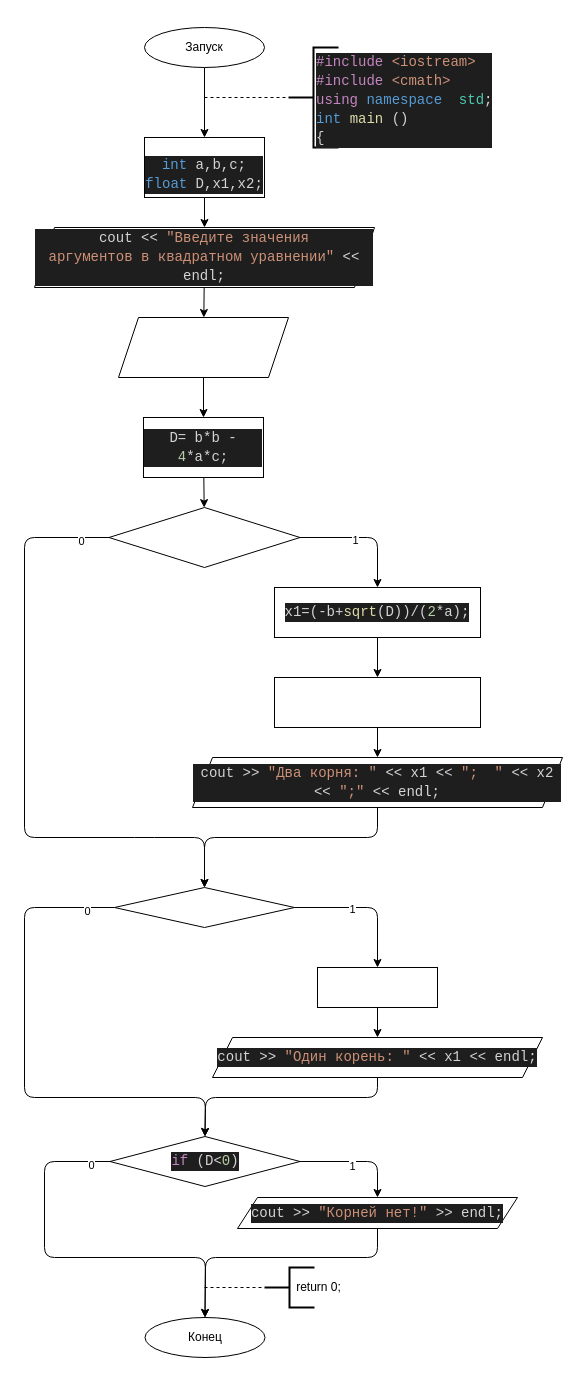
The diagram is 580 pixels wide and 1375 high, and some of its shapes have lost their labels. The centre of each missing label's shape, as x and y in pixels:
"cin << a << b << c;" belongs at (203,347).
"if (D= 0 )" belongs at (204,907).
"if (D> 0 )" belongs at (204,537).
"x1=(-b)/( 2 *a);" belongs at (377,987).
"x2=(-b- sqrt (D))/( 2 *a);" belongs at (377,702).
